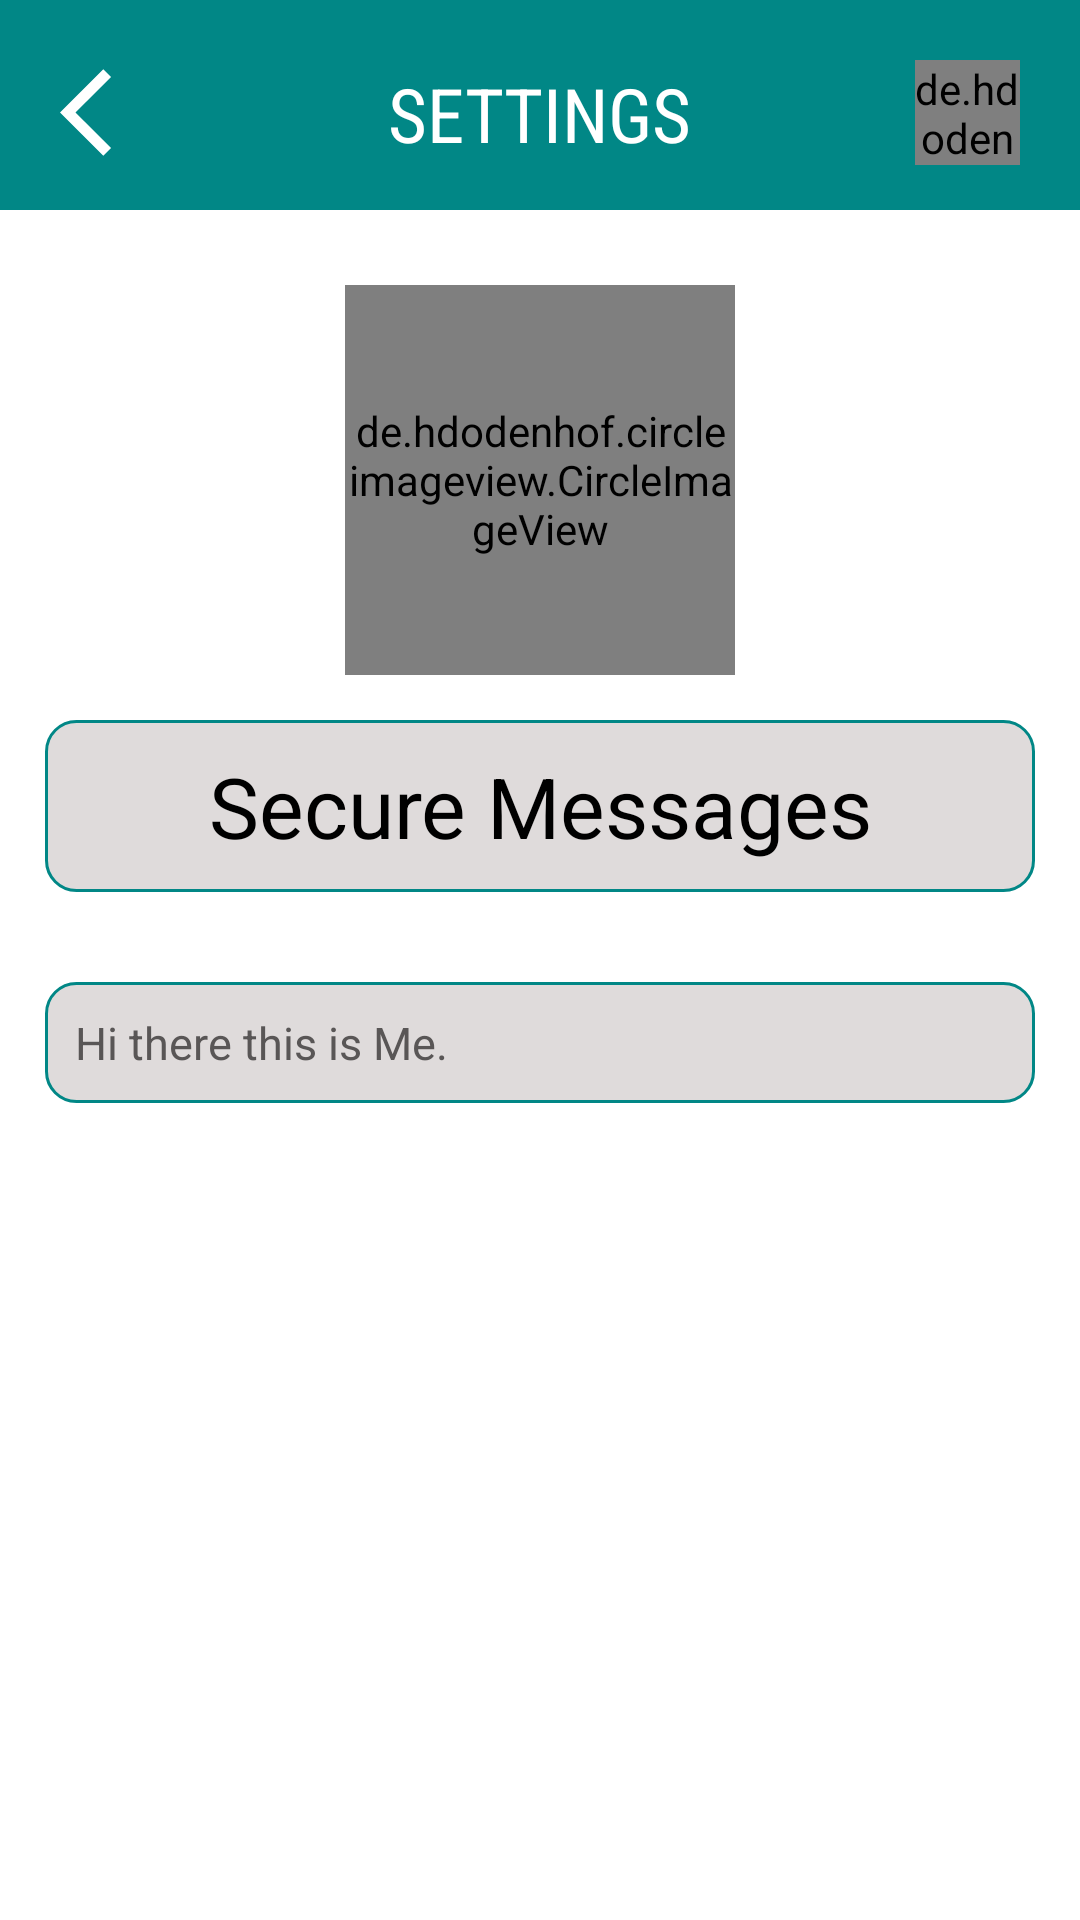

Icon click points for this 1080 x 1920 phone screenshot, format (x=x, y=y):
arrow back: (x=85, y=112)
